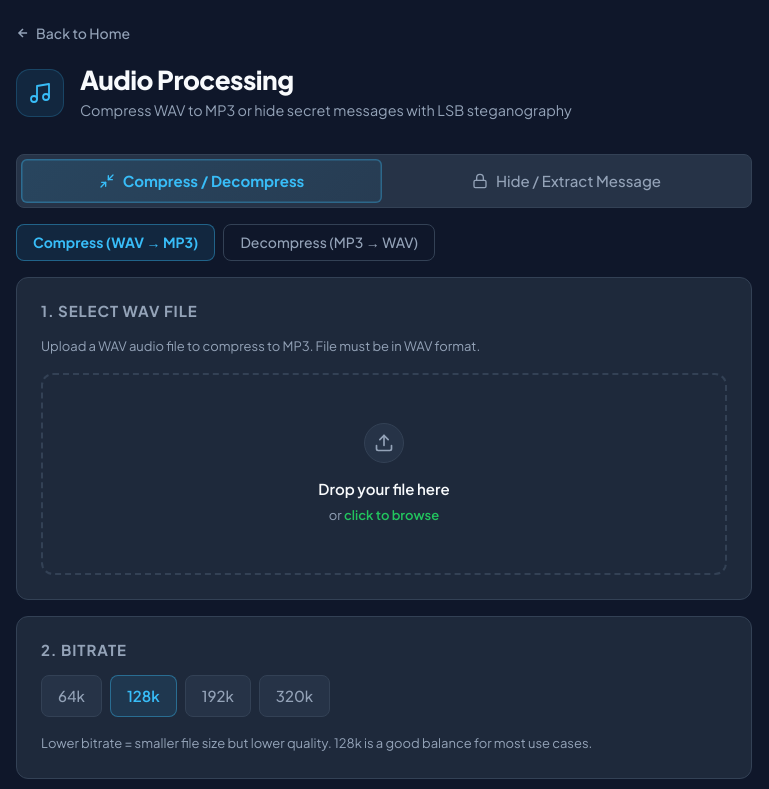
Test: AudioPage › switches to stego mode and shows AES-256 Encryption toggle
Click the tab "Hide / Extract Message" at (566, 181), box [386, 159, 747, 203]
(page scrolled)
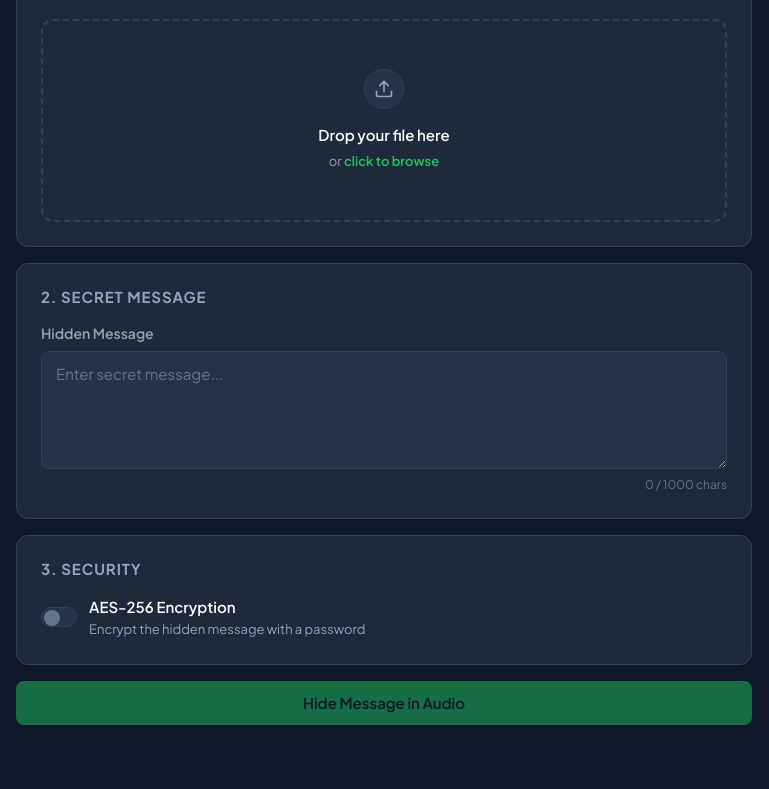
Expected: the text "AES-256 Encryption" is shown, [89, 597, 236, 616]
